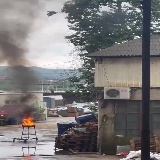fire: (22, 117, 36, 125)
